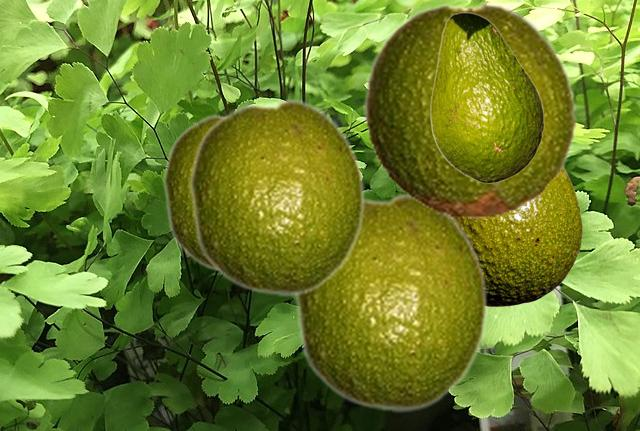avocado: (363, 2, 578, 219), (292, 191, 488, 413), (188, 97, 365, 297), (430, 12, 543, 182), (459, 168, 581, 305), (162, 112, 226, 273)
